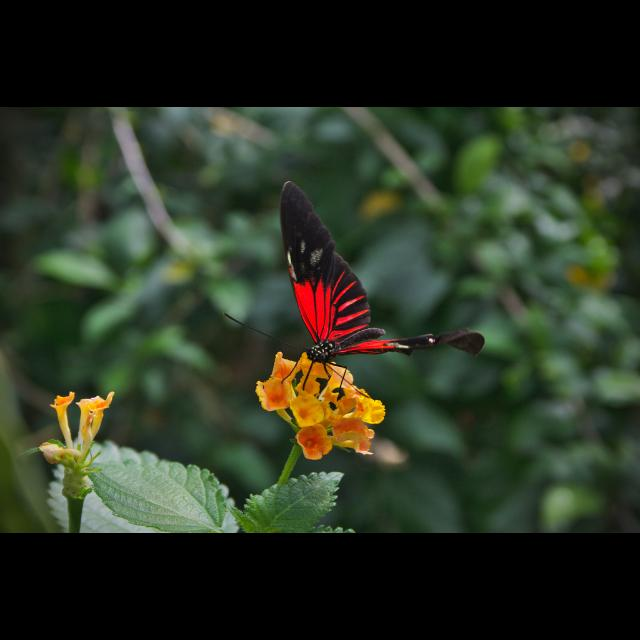Flower: (255, 352, 389, 463), (43, 383, 121, 481)
